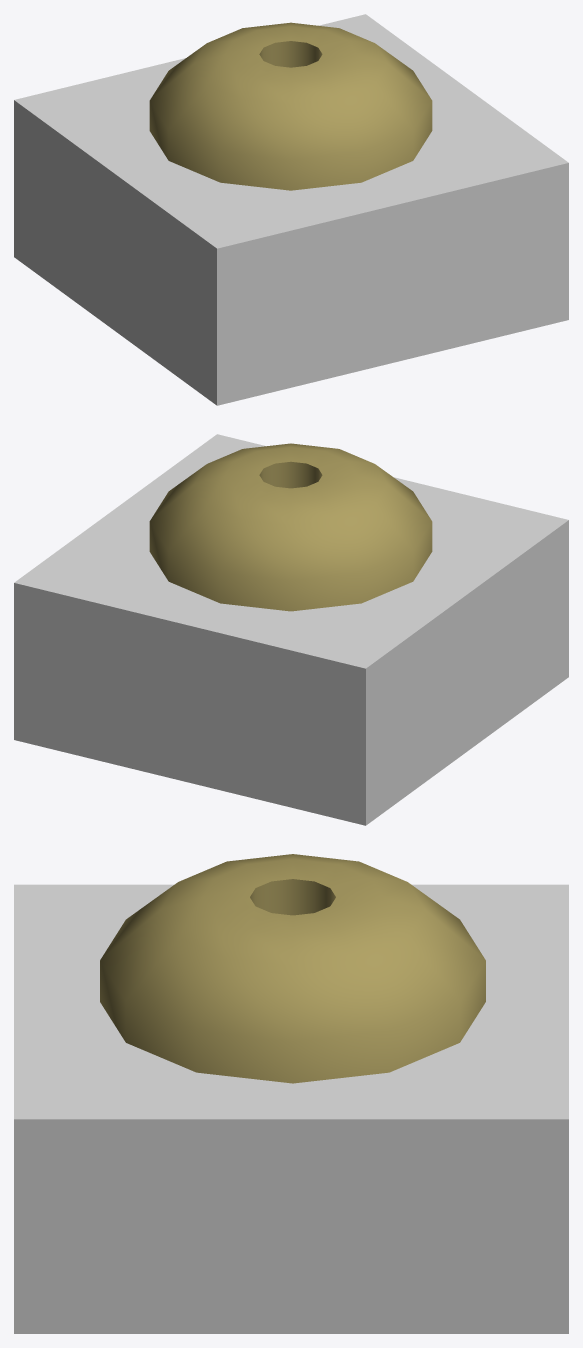
3 views of the same model, one above another, from view 1: azimuth 30°, elevation 25°; view 2: azimuth 150°, elevation 25°; view 3: azimuth 270°, elevation 25° (orthographic). The views are drawn at different scales.
Visible parts, largest first — view 1: Circle; view 2: Circle; view 3: Circle.
Boxes of the visible parts, x1=… form: Circle: x1=14, y1=14, x2=568, y2=405; Circle: x1=14, y1=434, x2=568, y2=825; Circle: x1=14, y1=854, x2=568, y2=1333.
Size of the model in its own units: 10 by 6.35 by 10.
